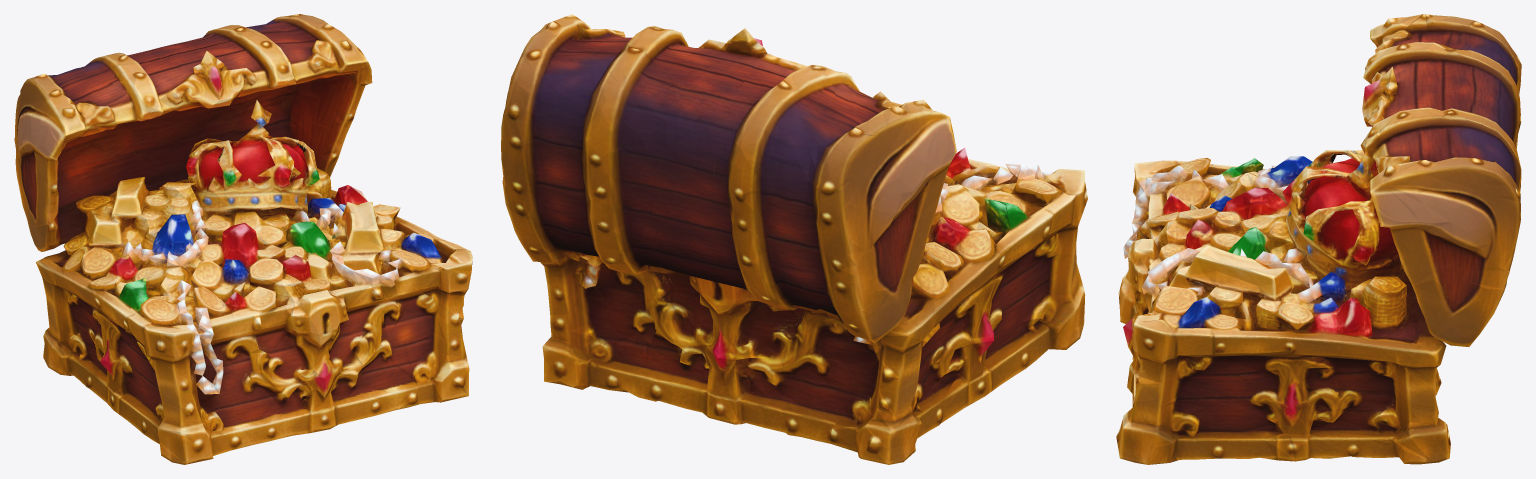
The model's file is chest_10k.glb.
3 renders of one model, left to right at view 1: azimuth 30°, elevation 25°; view 2: azimuth 150°, elevation 25°; view 3: azimuth 270°, elevation 25°, orthographic. The views are drawn at different scales.
Size of the model in its own units: 1 by 0.8745 by 0.9854.
1 material, 1 textured.
